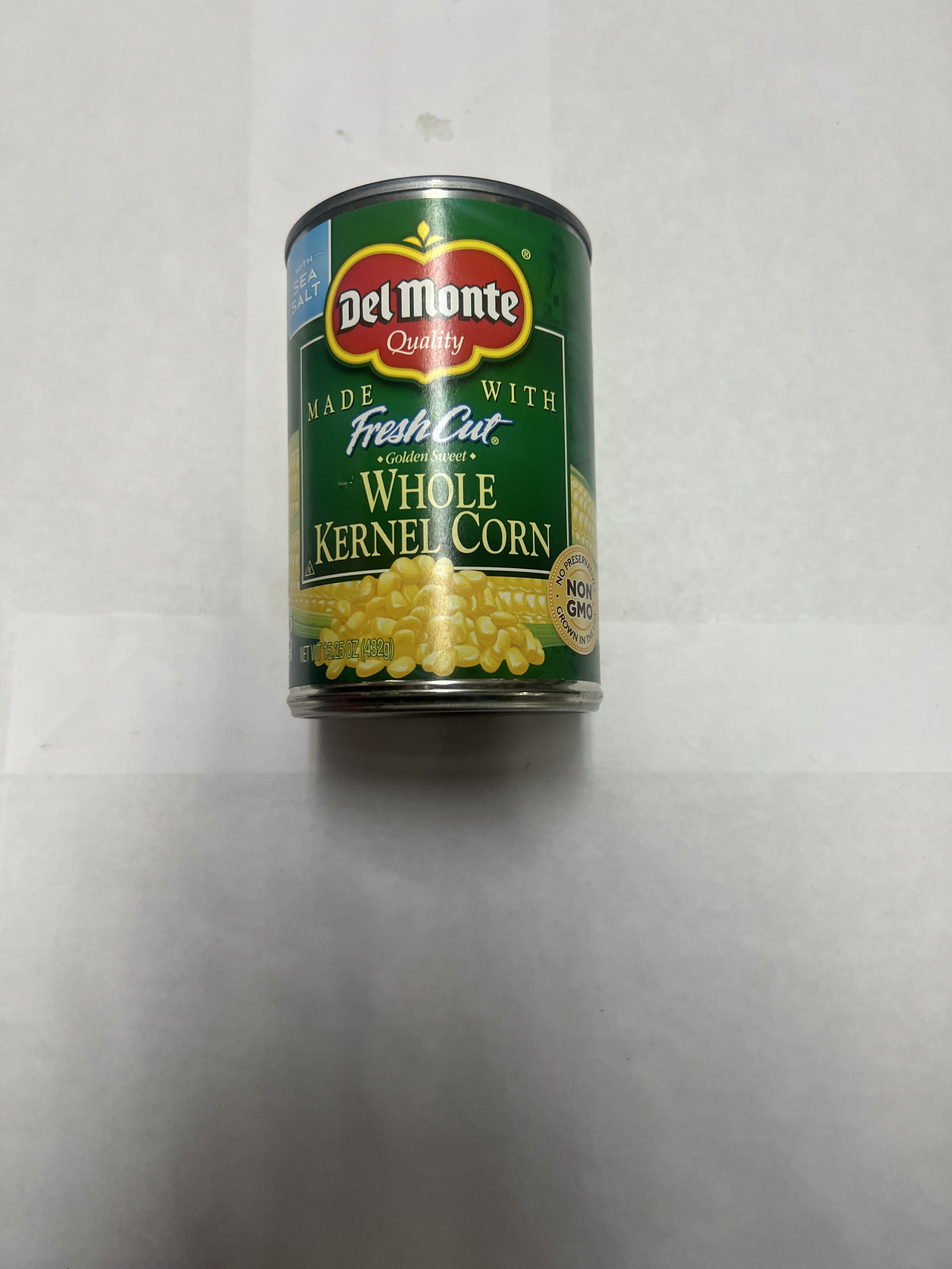packaged: (274, 171, 606, 724)
